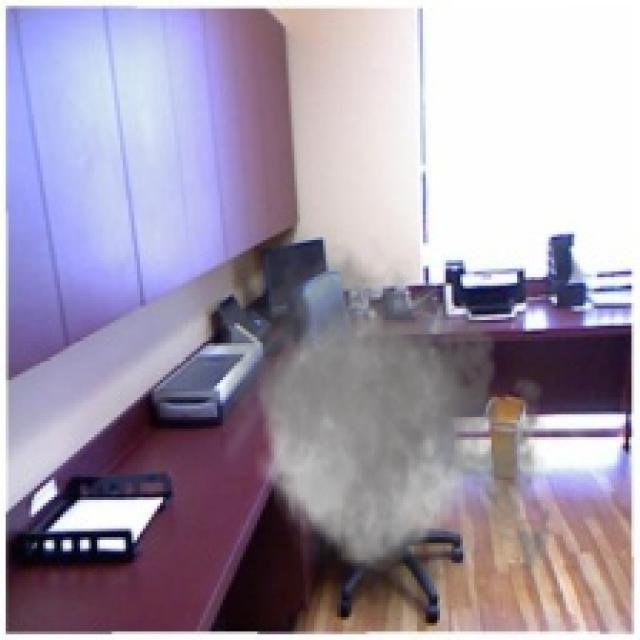Smoke: (206, 228, 568, 638)
